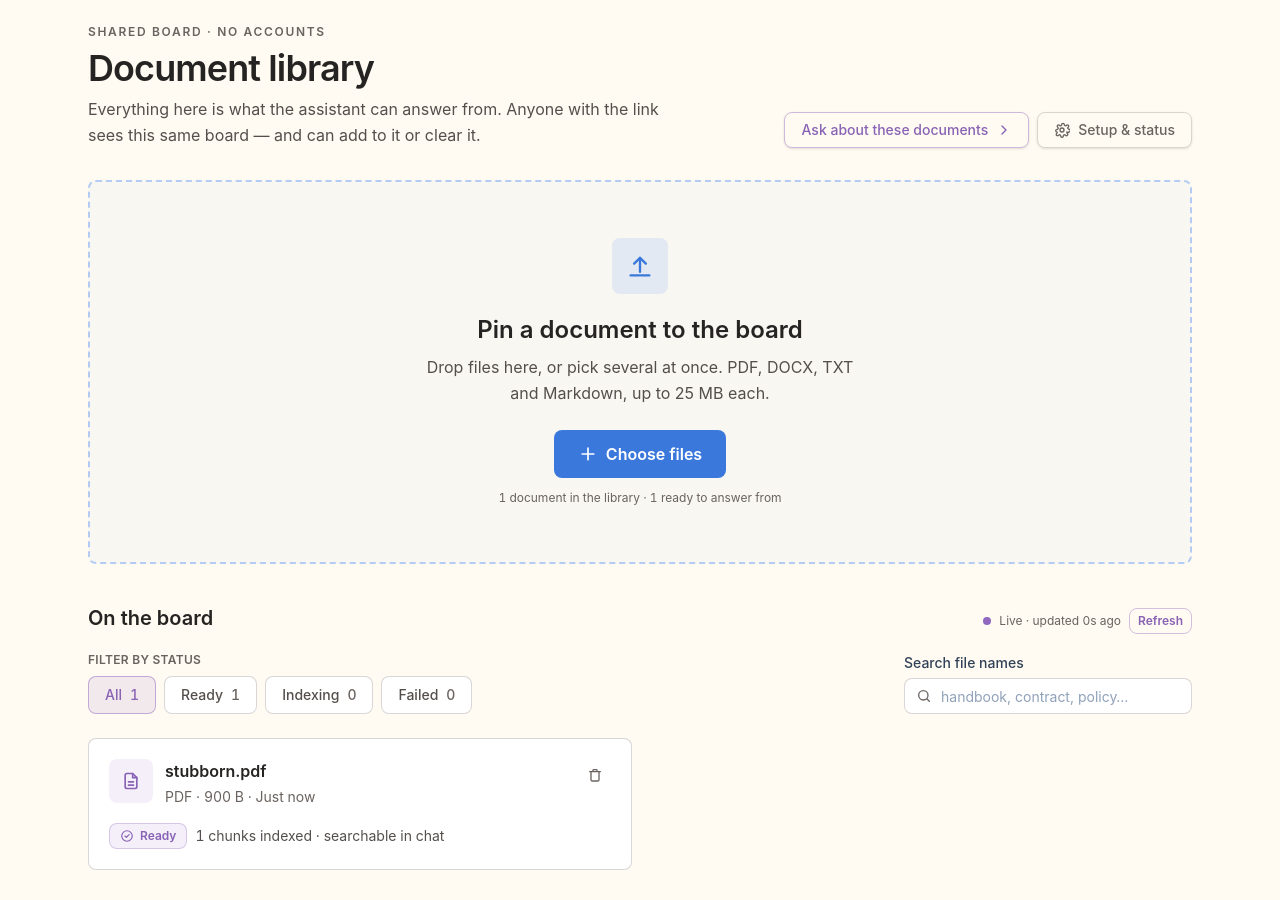
Test case: Documents screen — indexing progress and failures › surfaces a non-blocking error when the DELETE request fails, leaving the document in place
Check: the heading "stubborn.pdf" is shown, box [165,761,266,781]
Click the button named "delete stubborn.pdf": (595, 775) [579,759,611,791]
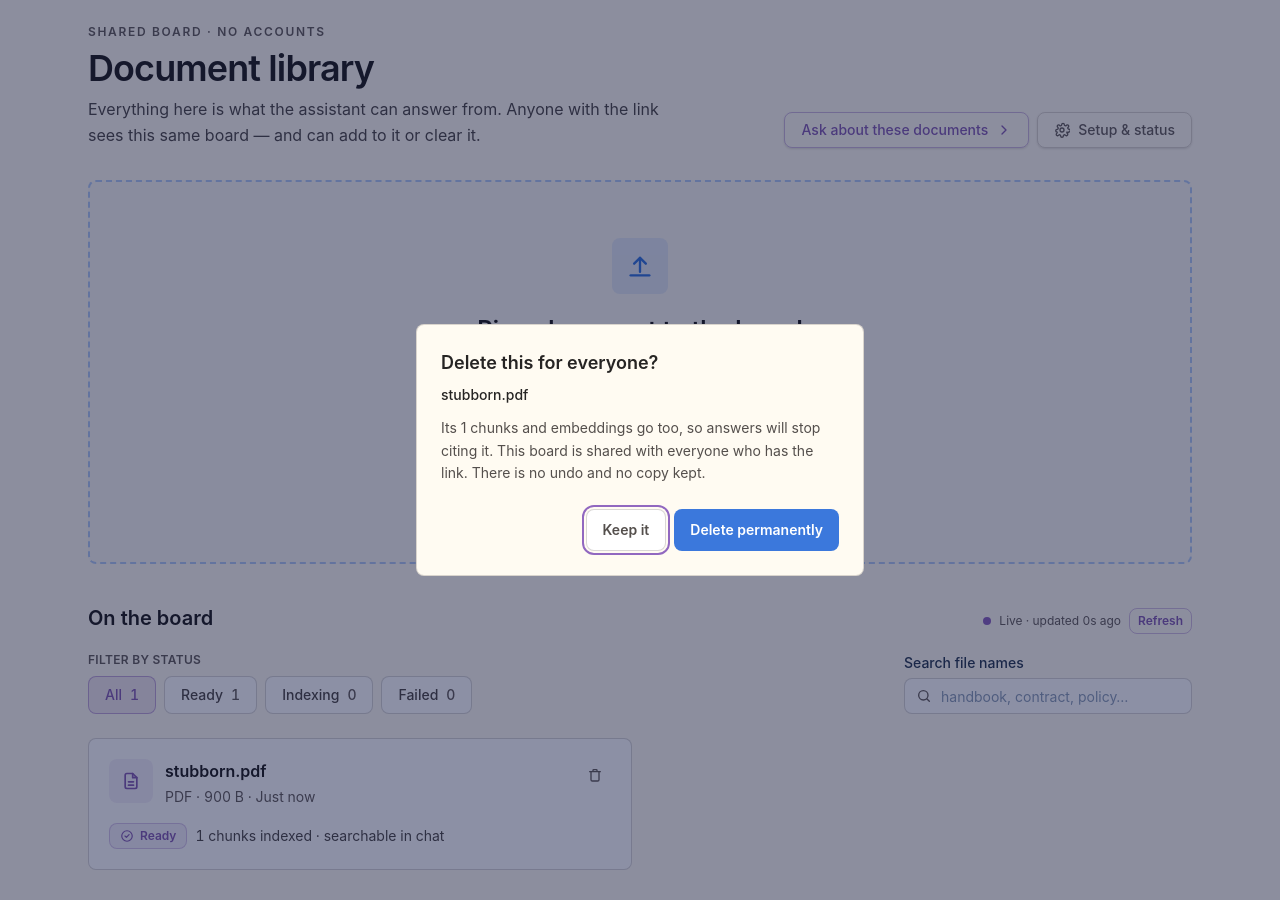
Click the button "Delete permanently": (757, 530) [674,509,839,551]
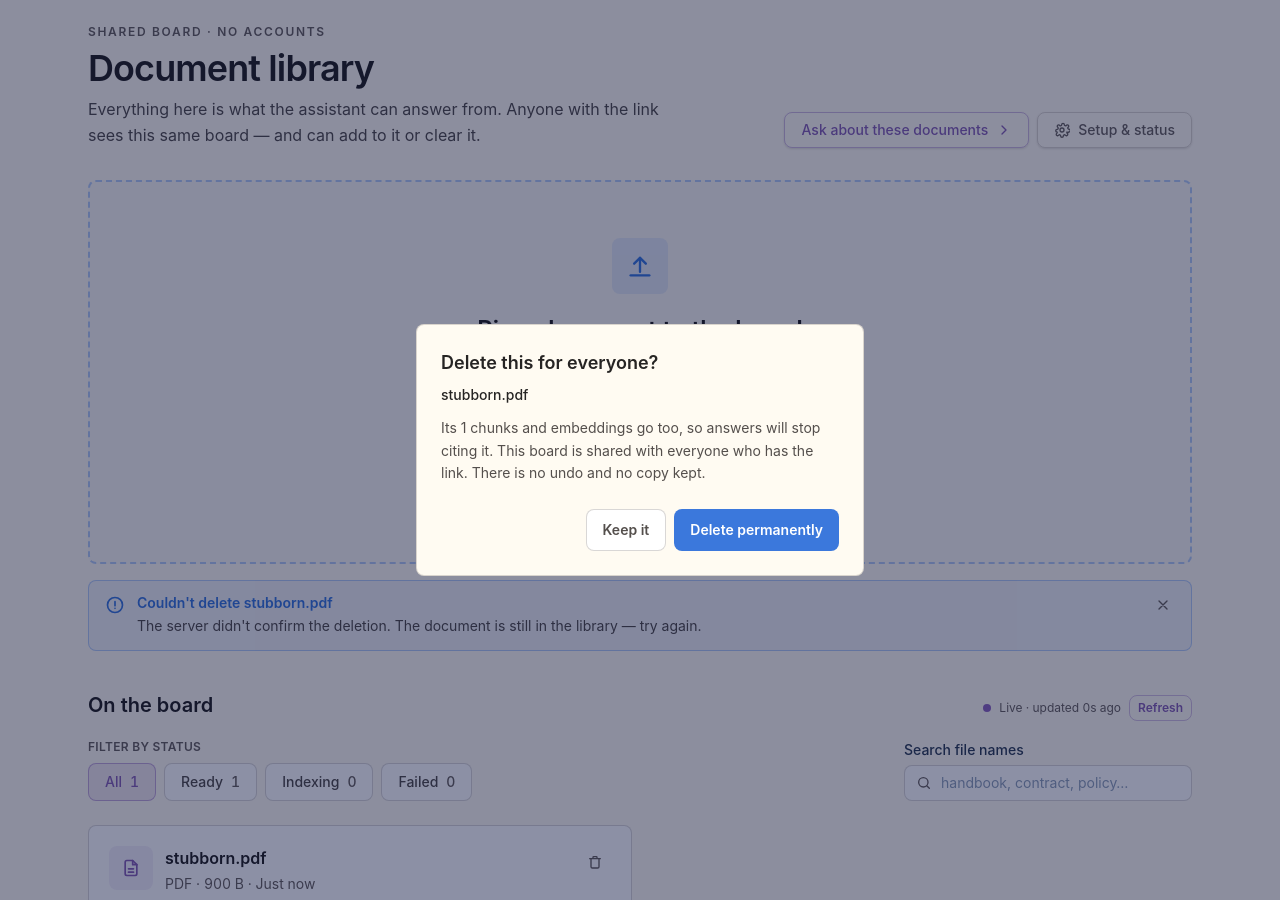
Check: the heading "stubborn.pdf" is shown, box [165,848,266,868]
Check: the text "Couldn't delete stubborn.pdf" is shown, box [137,594,333,611]
